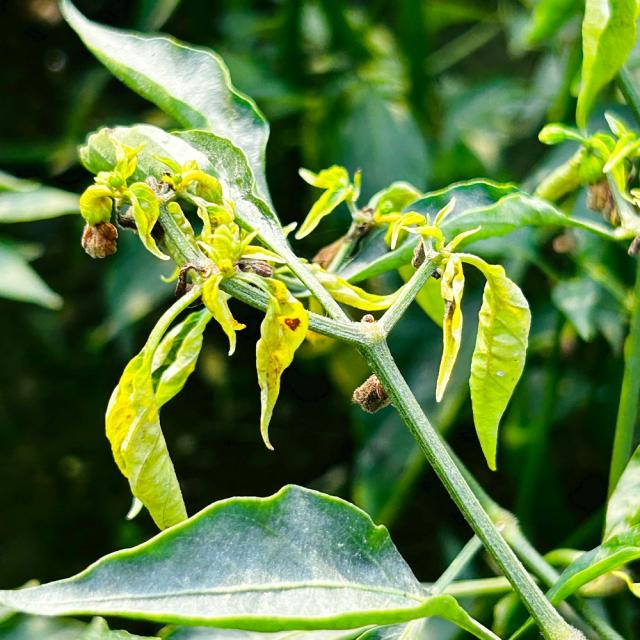Chilli_Leaf_Curl: (4, 1, 637, 638), (75, 121, 314, 531), (1, 482, 499, 638), (56, 0, 282, 230), (381, 195, 532, 471), (103, 280, 213, 531), (463, 253, 532, 471), (254, 283, 310, 451), (572, 0, 638, 134)
